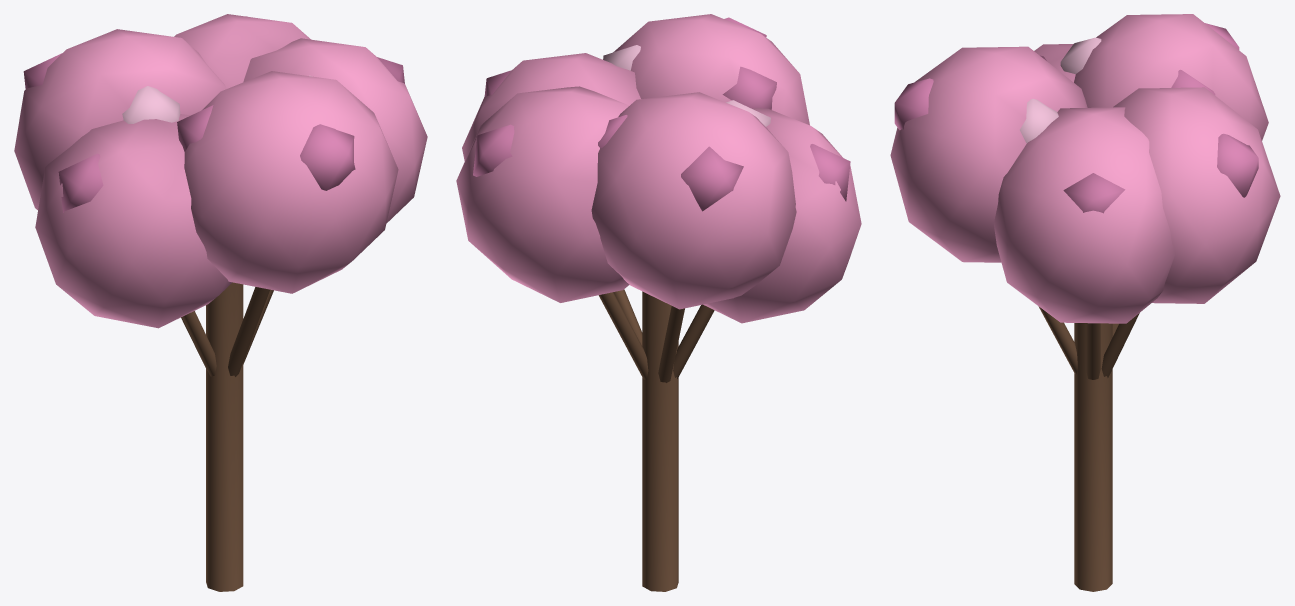
Rendered from tree-blossom.glb.
3 renders of one model, left to right at view 1: azimuth 30°, elevation 25°; view 2: azimuth 150°, elevation 25°; view 3: azimuth 270°, elevation 25°, orthographic. The views are drawn at different scales.
Parts seen in each view (by area): view 1: pink blossom crown, tree trunk, crown surface cluster, crown surface cluster.001; view 2: pink blossom crown, tree trunk, crown surface cluster, crown surface cluster.001; view 3: pink blossom crown, tree trunk, crown surface cluster, crown surface cluster.001.
Part boxes in pixels (x1,y1,x2,y2): pink blossom crown: (14,14,427,328); tree trunk: (181,282,273,591); crown surface cluster: (23,16,404,212); crown surface cluster.001: (122,75,312,123); pink blossom crown: (456,14,861,323); tree trunk: (599,289,714,591); crown surface cluster: (473,17,850,211); crown surface cluster.001: (603,45,770,126); pink blossom crown: (890,14,1280,323); tree trunk: (1038,306,1139,591); crown surface cluster: (894,23,1258,213); crown surface cluster.001: (1020,37,1101,143).
Size of the model in its own units: 1.53 by 2.15 by 1.42.
